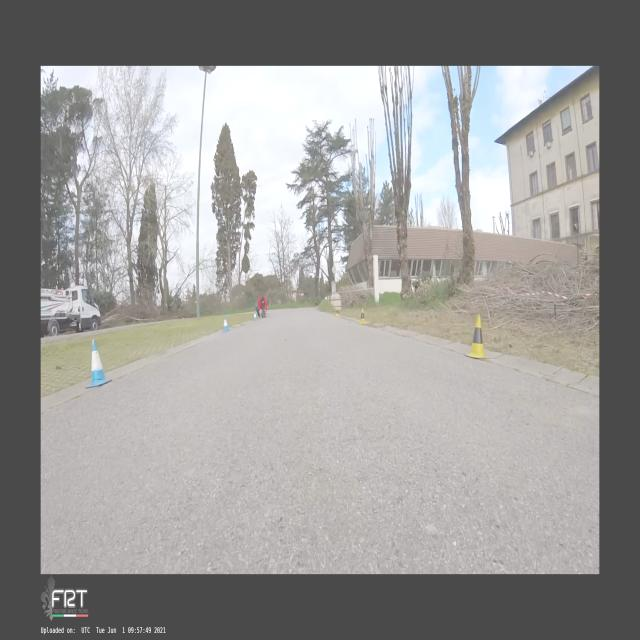blue_cone: (86, 339, 112, 388), (222, 316, 230, 332), (254, 312, 256, 320)
yellow_cone: (464, 313, 490, 359), (358, 308, 366, 324), (336, 306, 338, 316)
